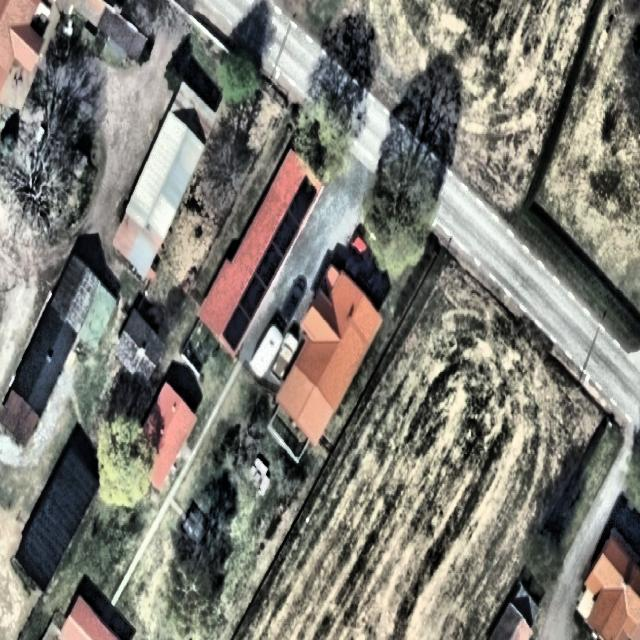roof_pv: (290, 174, 318, 222), (240, 271, 266, 322), (274, 212, 298, 260), (256, 240, 283, 282), (224, 307, 248, 350)
